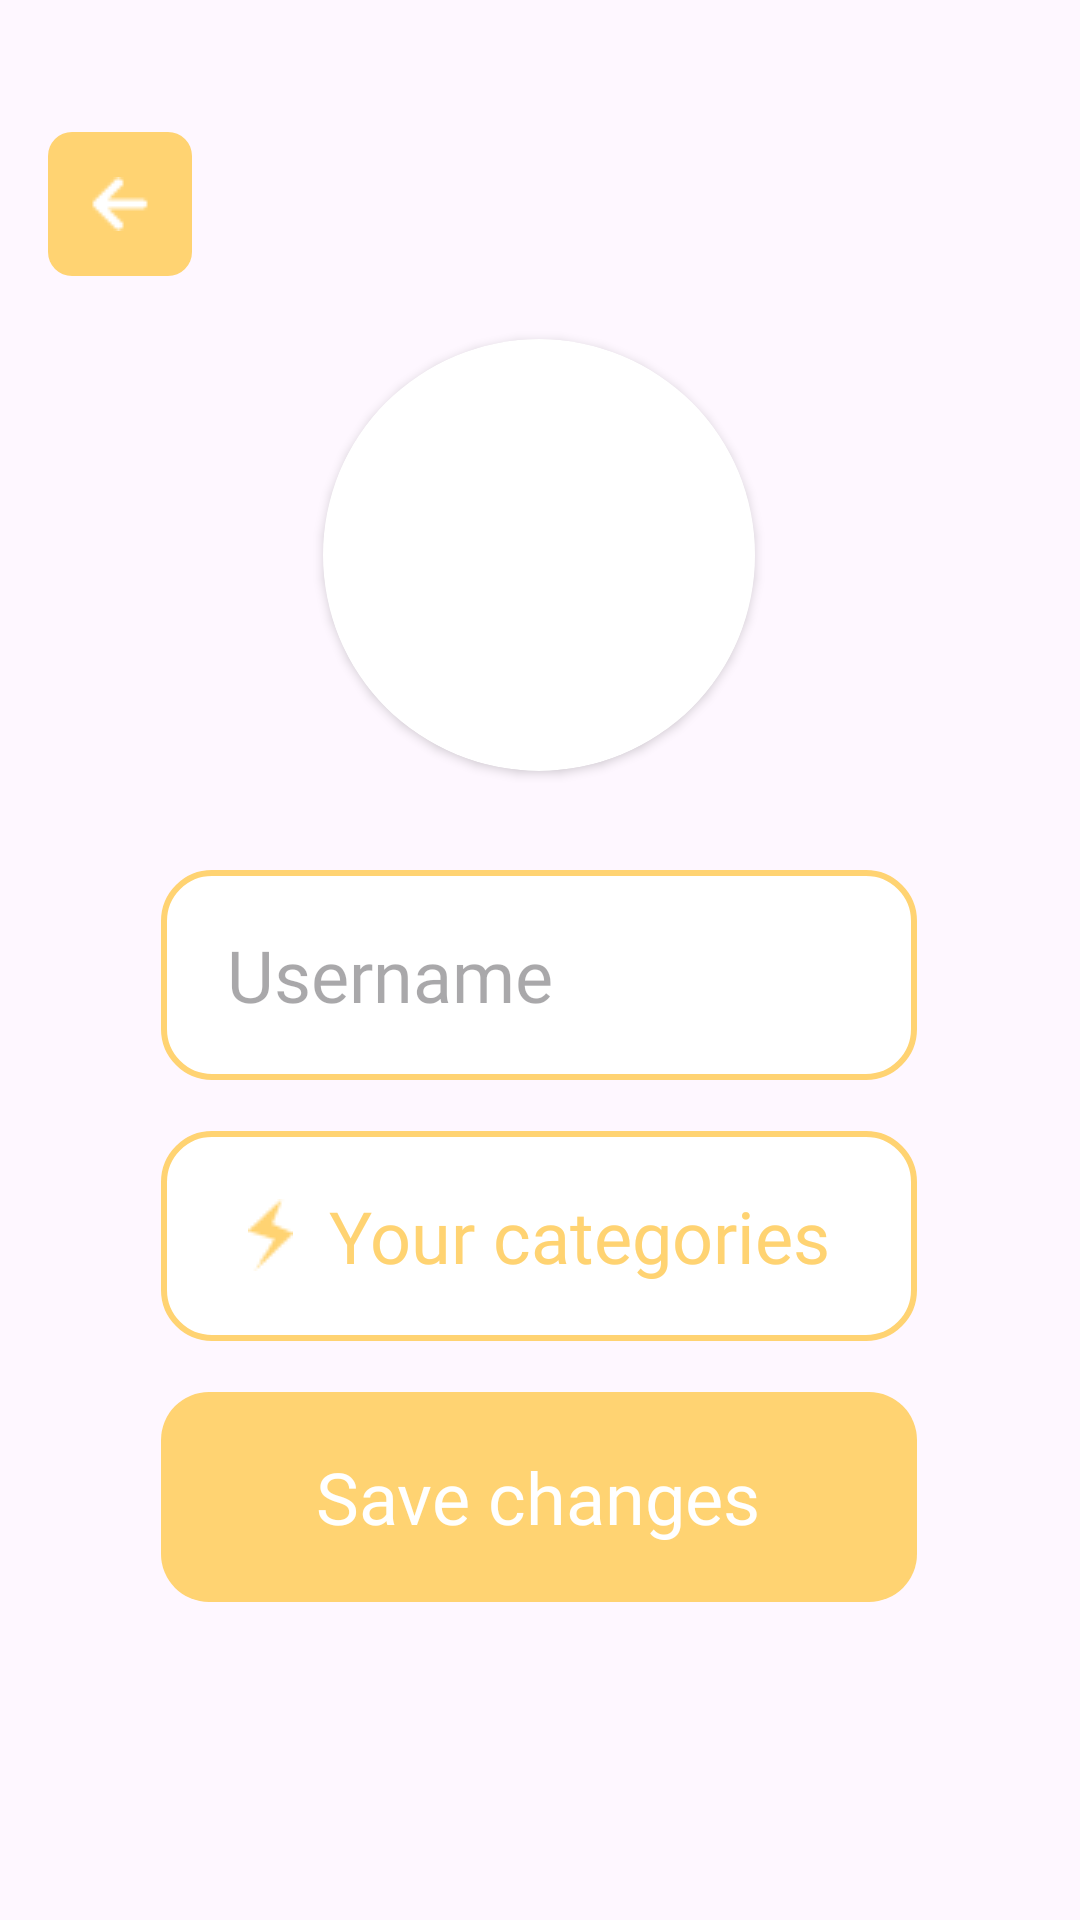

Named icons in this screenshot (1080 x 1920) and their bounding boxes, bbox=(x1, y1, x2, y2):
arrow left: bbox=(48, 132, 192, 276)
